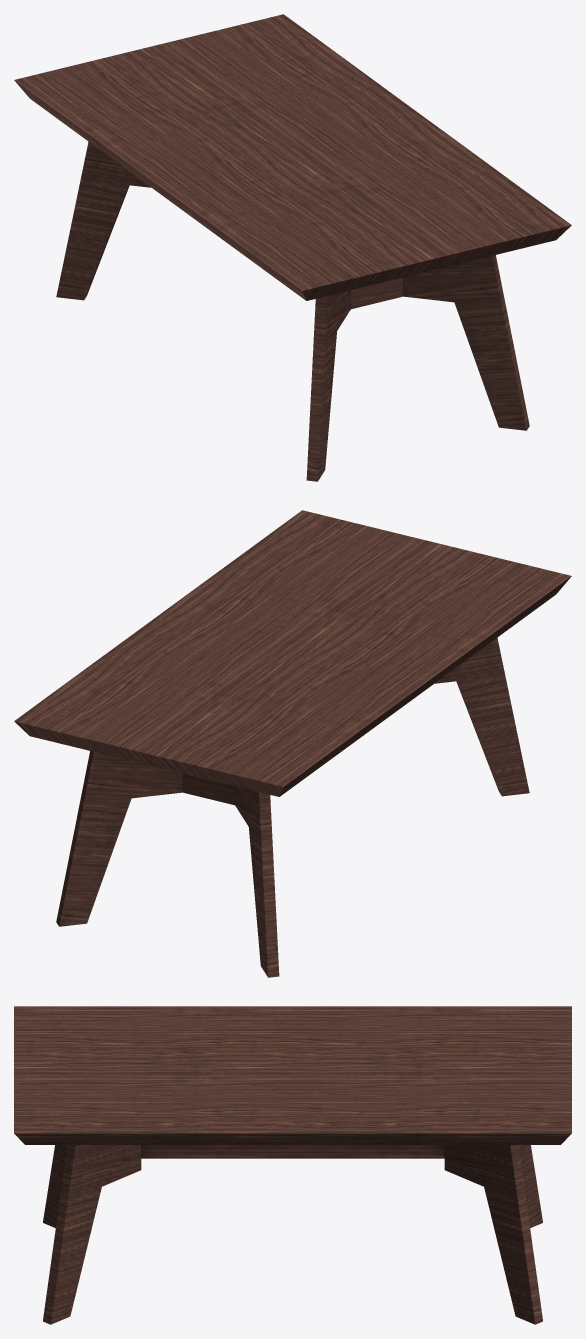
File: table.dae
3 renders of one model, top to bottom at view 1: azimuth 30°, elevation 25°; view 2: azimuth 150°, elevation 25°; view 3: azimuth 270°, elevation 25°, orthographic. The views are drawn at different scales.
Parts seen in each view (by area): view 1: table; view 2: table; view 3: table.
Boxes of the visible parts, left/top/right/bottom form: table: left=14, top=14, right=571, bottom=481; table: left=14, top=510, right=571, bottom=977; table: left=14, top=1006, right=571, bottom=1324.
Bounding box in the file's own units: 0.54 × 1 × 0.4.
1 material, 1 textured.
